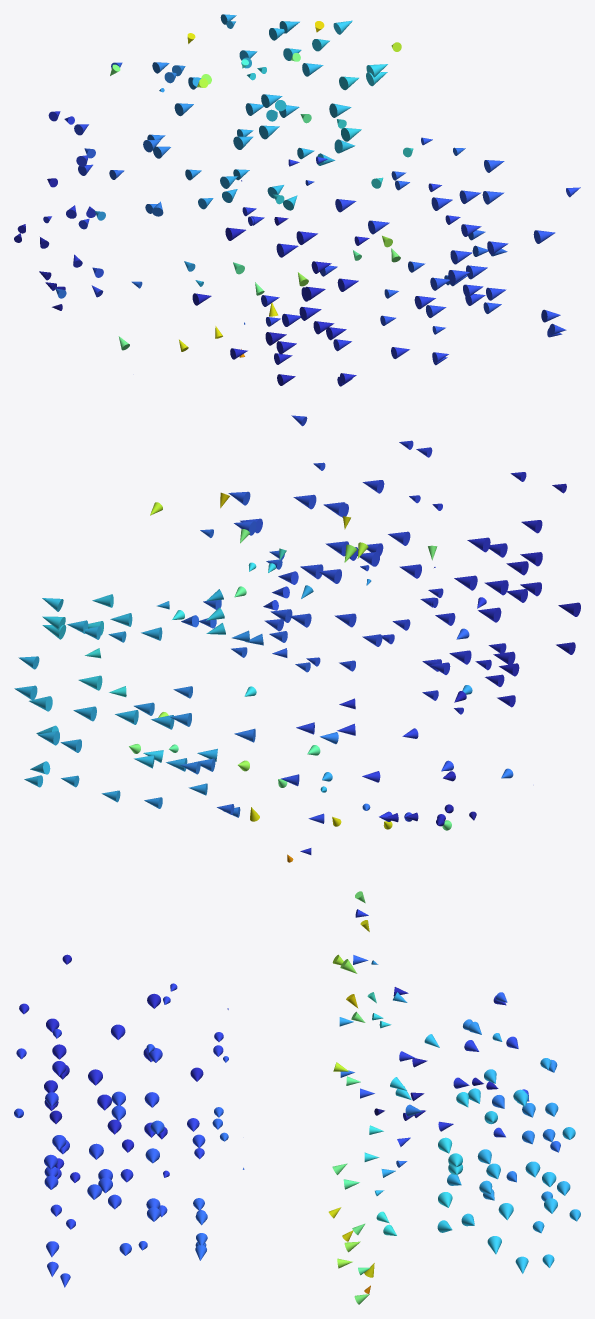
The model's file is LineasCorrienteN2-H2O_mh2-1.38_V-0.7.glb.
3 renders of one model, top to bottom at view 1: azimuth 30°, elevation 25°; view 2: azimuth 150°, elevation 25°; view 3: azimuth 270°, elevation 25°, orthographic. The views are drawn at different scales.
Bounding box in the file's own units: 0.000974 × 0.000812 × 0.00121.
2 materials, 2 textured.
